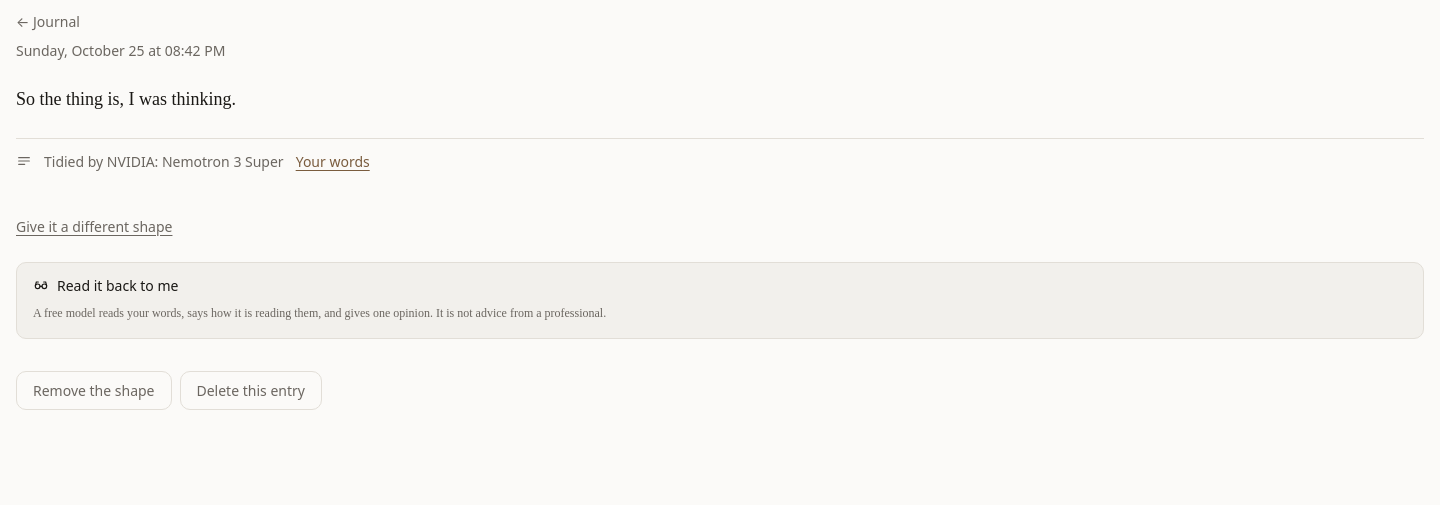
Test: Entry › corrects the words, and makes the shape again from them
Click the button "Your words" at x=333, y=161, box [296,151,370,172]
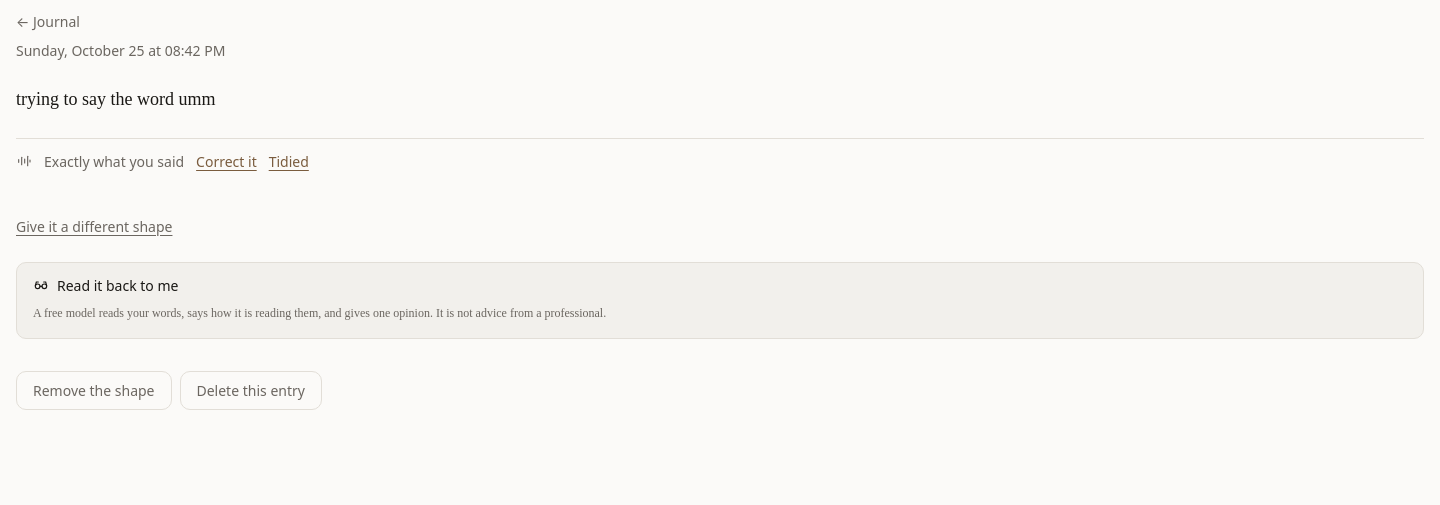
Click the button "Correct it" at x=226, y=161, box [196,151,257,172]
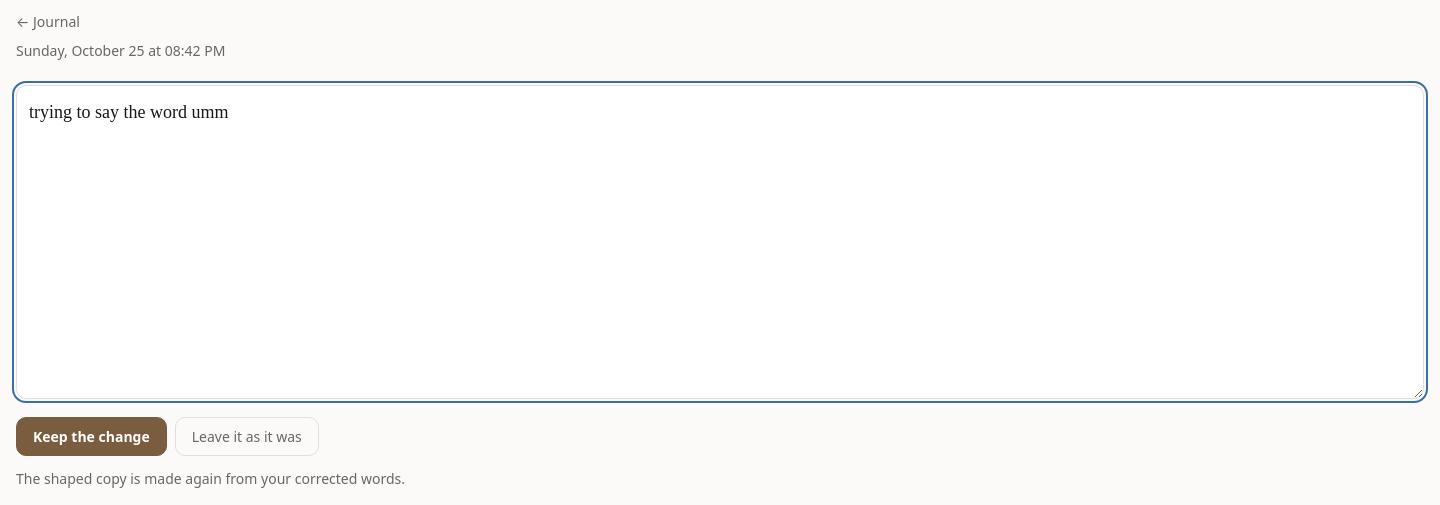
Replace the text in the text box named "Your words" with "trying to say the word Om" at x=720, y=242, box [16,85,1424,399]
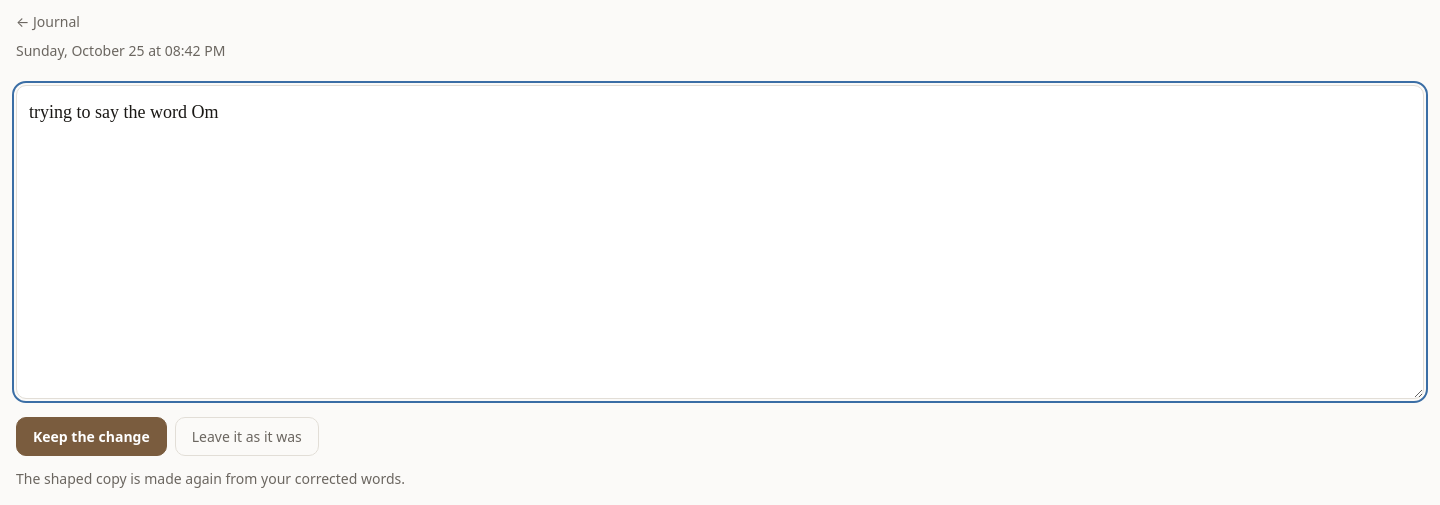
Click the button "Keep the change" at x=91, y=436, box [16,417,167,456]
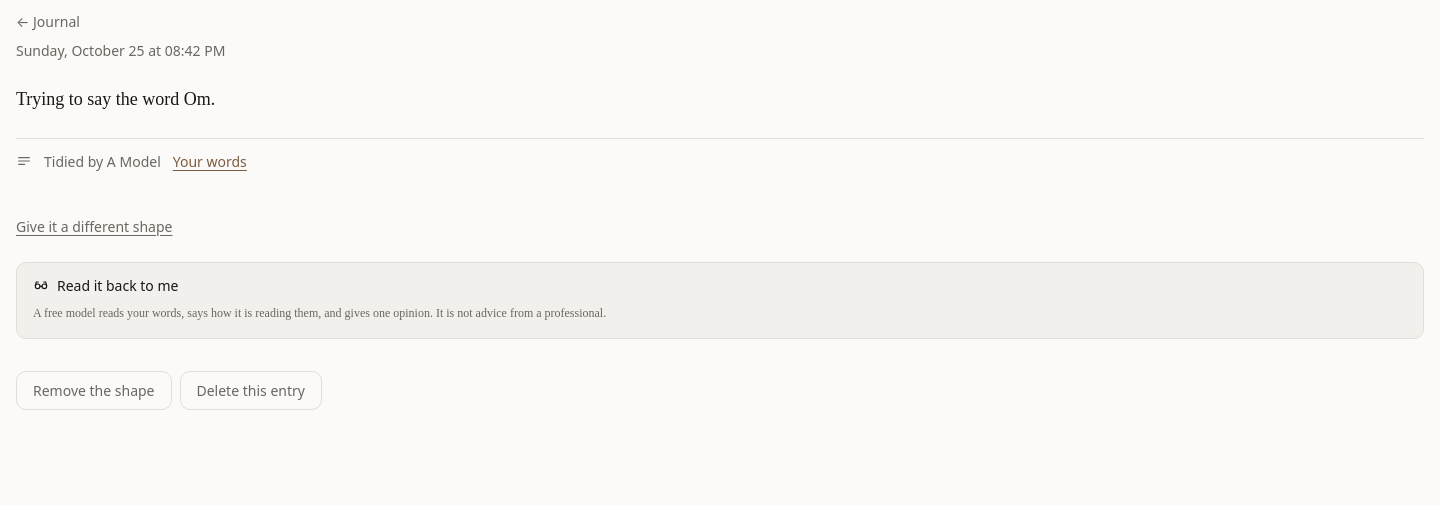
Check: the text "Trying to say the word Om" is shown, box [16,89,215,109]
